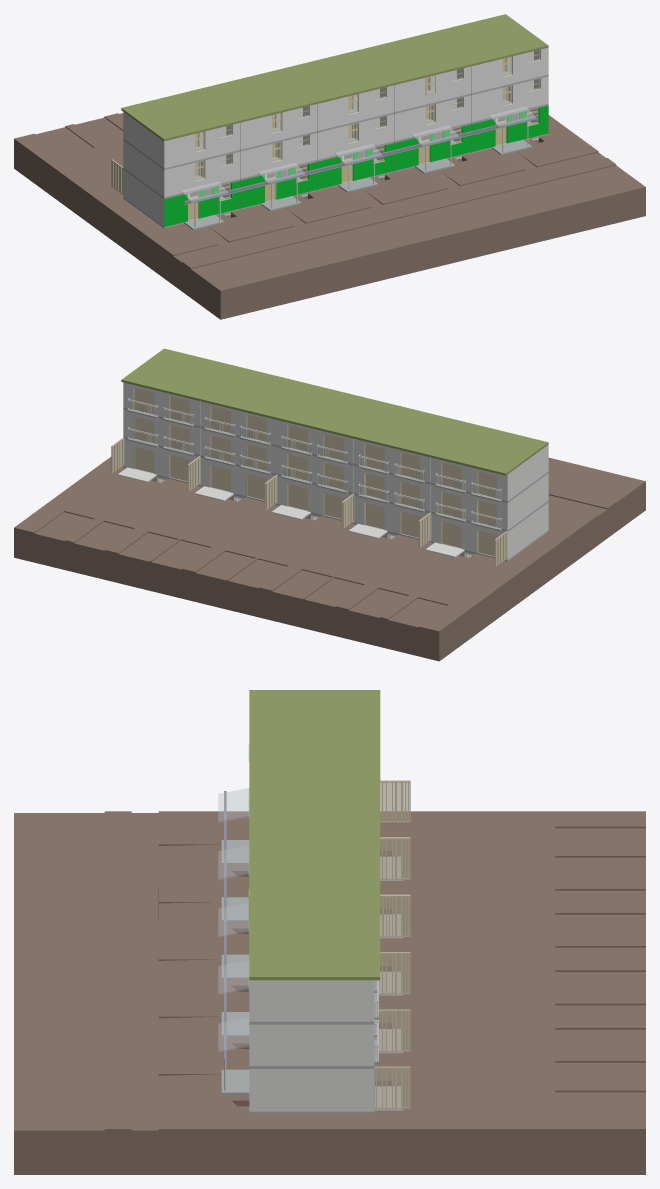
3 views of the same model, one above another, from view 1: azimuth 30°, elevation 25°; view 2: azimuth 150°, elevation 25°; view 3: azimuth 270°, elevation 25° (orthographic). The views are drawn at different scales.
Visible parts, largest first — view 1: 2BBYvWPmD8wez4fr2Me1fS, 0UYVGpRvL0lQFBg76WdftG, 3FuznPLwnFuvVKsHw1rLwM, 1xKUj$3In5$eFOxdJ0_vqN, 2KM3gMEm1FLu2DhMBxzCM0, 0awsP8KqvDbABRHmJrtVTb, 01Tx_uT6bFhhHpVYWRZbxf, 1KYC24GZL8IvKF_V432Ize, 36wOf0Lw9FGhJnhKQ5$PZg, 3Fs7ljqSf8FfVAgueAvf$T, 3V4YKT92DE3AXQZa4NoqEG, 3nHYg1if18reWsv7tCw34h (+18 smaller); view 2: 2BBYvWPmD8wez4fr2Me1fS, 0UYVGpRvL0lQFBg76WdftG, 3FuznPLwnFuvVKsHw1rLwM, 1xKUj$3In5$eFOxdJ0_vqN, 2KM3gMEm1FLu2DhMBxzCM0, 0awsP8KqvDbABRHmJrtVTb, 3J2MQW3Kb2OuyPZcGnC4cX, 2MoSXKuZP9AuGJqOdfQSVW, 1Aq7gnIW91RAfJhXmpWRlv, 0kqm0N1Tf3ZwwqJEWcbbQT, 0IsuStbij8dvi3omVmIpqu, 1YItmeQ5DDVvaB1w8dw_7$ (+37 smaller); view 3: 2BBYvWPmD8wez4fr2Me1fS, 0awsP8KqvDbABRHmJrtVTb, 0UYVGpRvL0lQFBg76WdftG, 2KM3gMEm1FLu2DhMBxzCM0, 3FuznPLwnFuvVKsHw1rLwM, 1xKUj$3In5$eFOxdJ0_vqN, 1NmaEavo97juwtRPZbnb_a, 1K0g_DfljB4Rlvrvk20P8s, 1vSIpE2BrEaBqjKV2NjmkG, 23XxiPiIDDyeTQhMyCTzpF, 2_0LMTem94LBIoqtzWlL68, 204lrWDu59P92AmePyHUoL (+12 smaller).
Boxes of the visible parts, x1=… form: 2BBYvWPmD8wez4fr2Me1fS: x1=14, y1=113, x2=645, y2=319; 0UYVGpRvL0lQFBg76WdftG: x1=121, y1=89, x2=240, y2=141; 3FuznPLwnFuvVKsHw1rLwM: x1=198, y1=70, x2=317, y2=122; 1xKUj$3In5$eFOxdJ0_vqN: x1=275, y1=51, x2=394, y2=103; 2KM3gMEm1FLu2DhMBxzCM0: x1=352, y1=33, x2=471, y2=84; 0awsP8KqvDbABRHmJrtVTb: x1=429, y1=14, x2=548, y2=65; 01Tx_uT6bFhhHpVYWRZbxf: x1=318, y1=85, x2=394, y2=130; 1KYC24GZL8IvKF_V432Ize: x1=241, y1=104, x2=317, y2=149; 36wOf0Lw9FGhJnhKQ5$PZg: x1=472, y1=47, x2=548, y2=93; 3Fs7ljqSf8FfVAgueAvf$T: x1=164, y1=123, x2=240, y2=168; 3V4YKT92DE3AXQZa4NoqEG: x1=241, y1=133, x2=317, y2=178; 3nHYg1if18reWsv7tCw34h: x1=395, y1=95, x2=471, y2=140; 2BBYvWPmD8wez4fr2Me1fS: x1=14, y1=457, x2=645, y2=661; 0UYVGpRvL0lQFBg76WdftG: x1=429, y1=423, x2=548, y2=475; 3FuznPLwnFuvVKsHw1rLwM: x1=352, y1=405, x2=471, y2=456; 1xKUj$3In5$eFOxdJ0_vqN: x1=275, y1=386, x2=394, y2=437; 2KM3gMEm1FLu2DhMBxzCM0: x1=198, y1=367, x2=317, y2=419; 0awsP8KqvDbABRHmJrtVTb: x1=121, y1=348, x2=240, y2=400; 3J2MQW3Kb2OuyPZcGnC4cX: x1=431, y1=484, x2=507, y2=530; 2MoSXKuZP9AuGJqOdfQSVW: x1=354, y1=466, x2=430, y2=511; 1Aq7gnIW91RAfJhXmpWRlv: x1=277, y1=447, x2=353, y2=492; 0kqm0N1Tf3ZwwqJEWcbbQT: x1=507, y1=502, x2=548, y2=559; 0IsuStbij8dvi3omVmIpqu: x1=123, y1=409, x2=199, y2=455; 1YItmeQ5DDVvaB1w8dw_7$: x1=200, y1=428, x2=276, y2=473; 2BBYvWPmD8wez4fr2Me1fS: x1=14, y1=811, x2=645, y2=1174; 0awsP8KqvDbABRHmJrtVTb: x1=249, y1=919, x2=380, y2=980; 0UYVGpRvL0lQFBg76WdftG: x1=249, y1=690, x2=380, y2=747; 2KM3gMEm1FLu2DhMBxzCM0: x1=249, y1=862, x2=380, y2=919; 3FuznPLwnFuvVKsHw1rLwM: x1=249, y1=747, x2=380, y2=804; 1xKUj$3In5$eFOxdJ0_vqN: x1=249, y1=805, x2=380, y2=862; 1NmaEavo97juwtRPZbnb_a: x1=249, y1=1069, x2=374, y2=1111; 1K0g_DfljB4Rlvrvk20P8s: x1=249, y1=980, x2=374, y2=1021; 1vSIpE2BrEaBqjKV2NjmkG: x1=249, y1=1024, x2=374, y2=1065; 23XxiPiIDDyeTQhMyCTzpF: x1=374, y1=1066, x2=410, y2=1108; 2_0LMTem94LBIoqtzWlL68: x1=374, y1=1009, x2=410, y2=1051; 204lrWDu59P92AmePyHUoL: x1=379, y1=952, x2=410, y2=994.
Bounding box in the file's own units: 41.49 × 11.12 × 34.91.
